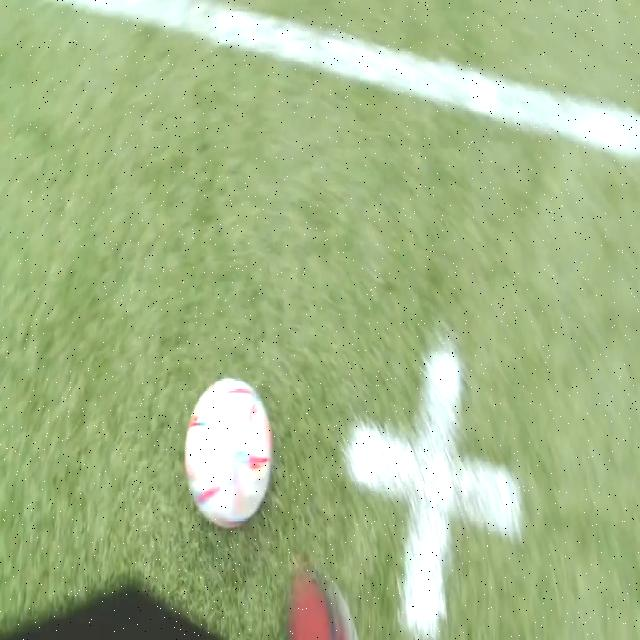ball: (185, 378, 272, 524)
